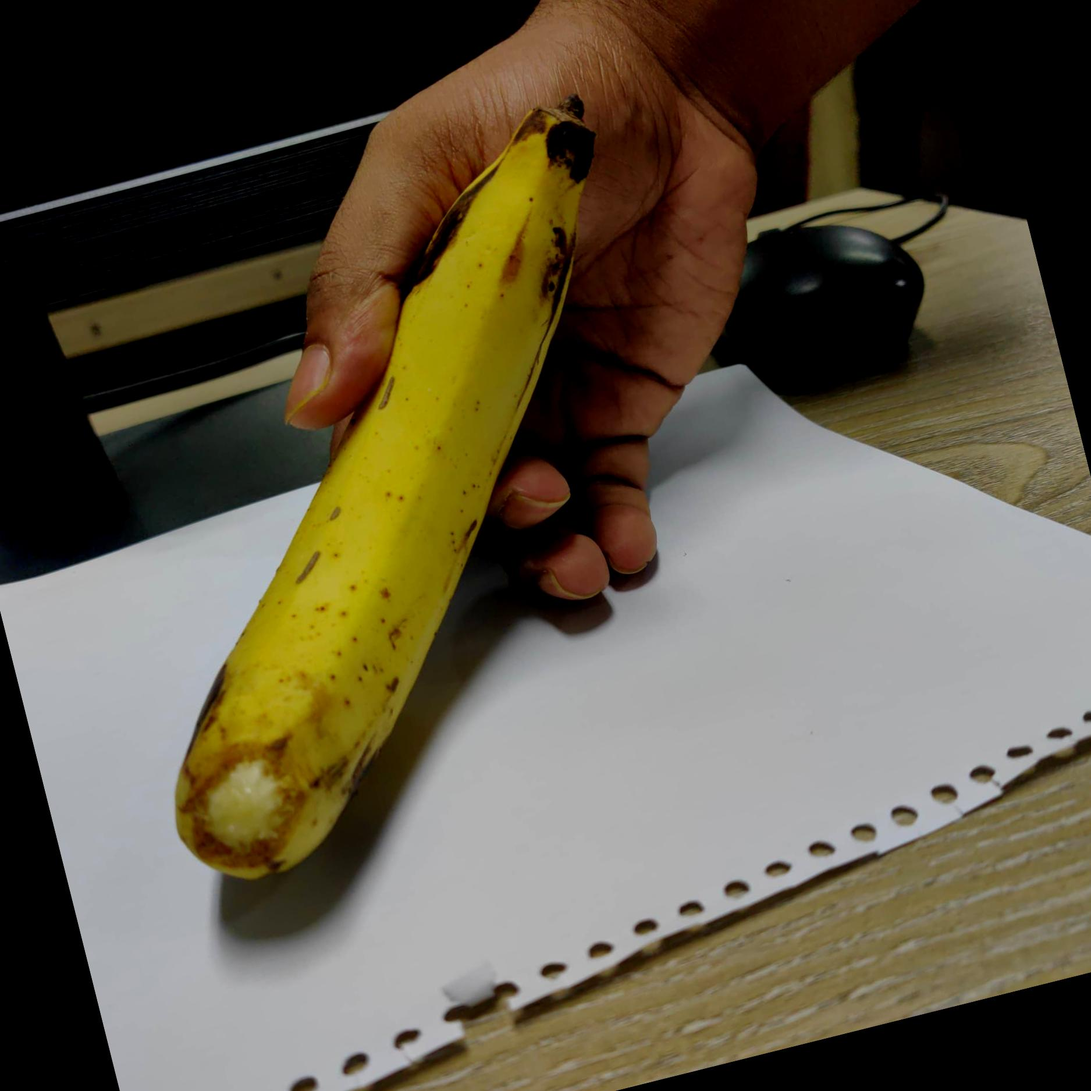Banana Ripe: (29, 102, 750, 927)
